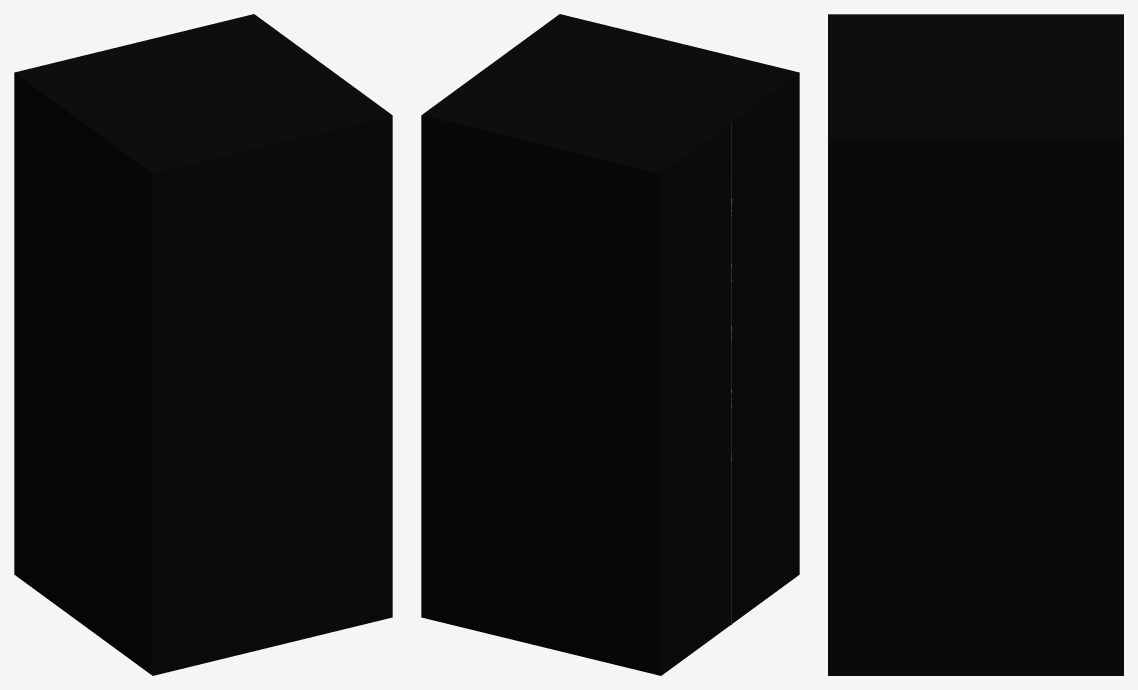
File: Fence_Double.glb
The picture shows the model from 3 angles, left to right: view 1: azimuth 30°, elevation 25°; view 2: azimuth 150°, elevation 25°; view 3: azimuth 270°, elevation 25°; orthographic projection. The views are drawn at different scales.
Parts seen in each view (by area): view 1: GameObject; view 2: GameObject; view 3: GameObject.
Boxes of the visible parts, left/top/right/bottom form: GameObject: left=14, top=14, right=392, bottom=675; GameObject: left=421, top=14, right=799, bottom=675; GameObject: left=828, top=14, right=1123, bottom=675.
Bounding box in the file's own units: 1 × 2 × 1.
Materials: 2 (2 with a texture image).
